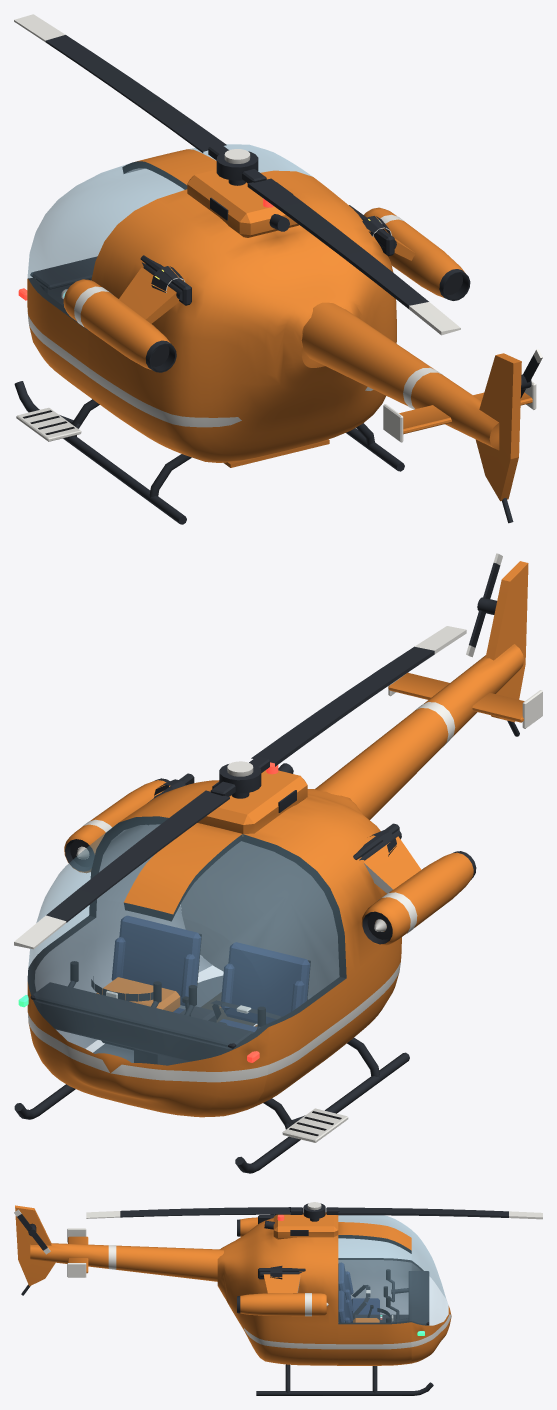
Rendered from helicopter_boarding.glb.
3 renders of one model, top to bottom at view 1: azimuth 30°, elevation 25°; view 2: azimuth 150°, elevation 25°; view 3: azimuth 270°, elevation 25°, orthographic. The views are drawn at different scales.
Parts seen in each view (by area): view 1: Body, Door_L, MainRotor, Windows, JetPod_L, FrameAndSkids, JetPod_R, Interior, Step_L, Door_R; view 2: Body, Windows, Interior, Door_L, MainRotor, Door_R, JetPod_L, Seat_L, Seat_R, FrameAndSkids, JetPod_R, Step_L (+2 smaller); view 3: Body, Door_R, Door_L, MainRotor, JetPod_R, Windows, FrameAndSkids, Interior, Seat_L, Seat_R, TailRotor, JetPod_L (+1 smaller).
Boxes of the visible parts, left/top/right/bottom form: Body: left=27, top=149, right=536, bottom=523; Door_L: left=28, top=161, right=186, bottom=408; MainRotor: left=14, top=14, right=460, bottom=335; Windows: left=27, top=152, right=212, bottom=278; JetPod_L: left=63, top=262, right=182, bottom=372; FrameAndSkids: left=14, top=205, right=404, bottom=524; JetPod_R: left=364, top=207, right=470, bottom=300; Interior: left=30, top=256, right=97, bottom=305; Step_L: left=16, top=407, right=81, bottom=441; Door_R: left=188, top=144, right=311, bottom=176; Body: left=27, top=561, right=542, bottom=1117; Windows: left=28, top=899, right=268, bottom=1065; Interior: left=30, top=841, right=339, bottom=1065; Door_L: left=174, top=834, right=346, bottom=1109; MainRotor: left=14, top=626, right=466, bottom=949; Door_R: left=28, top=816, right=168, bottom=1040; JetPod_L: left=359, top=830, right=476, bottom=945; Seat_L: left=219, top=942, right=310, bottom=1031; Seat_R: left=101, top=915, right=201, bottom=1050; FrameAndSkids: left=14, top=773, right=409, bottom=1173; JetPod_R: left=64, top=778, right=171, bottom=873; Step_L: left=282, top=1108, right=348, bottom=1142; Body: left=15, top=1205, right=451, bottom=1365; Door_R: left=338, top=1235, right=411, bottom=1364; Door_L: left=338, top=1215, right=411, bottom=1310; MainRotor: left=86, top=1202, right=542, bottom=1221; JetPod_R: left=237, top=1272, right=328, bottom=1316; Windows: left=411, top=1230, right=448, bottom=1325; FrameAndSkids: left=256, top=1215, right=433, bottom=1395; Interior: left=338, top=1271, right=429, bottom=1324; Seat_L: left=338, top=1262, right=379, bottom=1322; Seat_R: left=338, top=1290, right=353, bottom=1322; TailRotor: left=14, top=1209, right=50, bottom=1254; JetPod_L: left=237, top=1217, right=263, bottom=1236.
Size of the model in its own units: 4.75 by 4.19 by 12.28.
